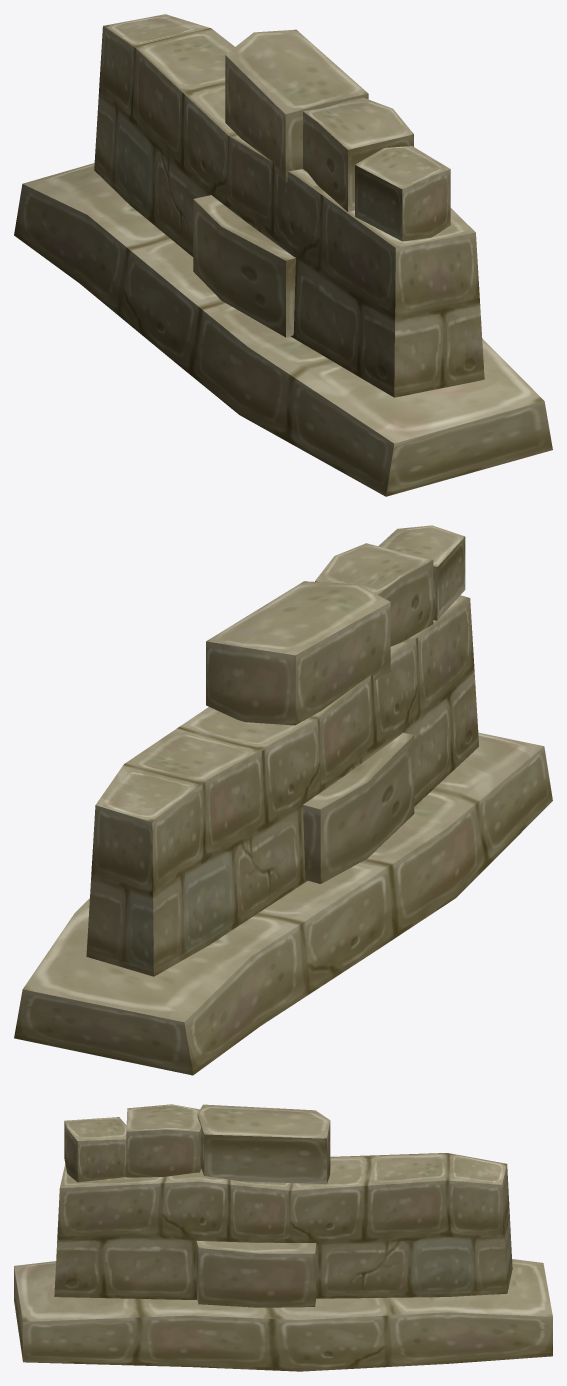
Rendered from wallStoneB.fbx.
3 renders of one model, top to bottom at view 1: azimuth 30°, elevation 25°; view 2: azimuth 150°, elevation 25°; view 3: azimuth 270°, elevation 25°, orthographic. The views are drawn at different scales.
Visible parts, largest first — view 1: wall_stoneB; view 2: wall_stoneB; view 3: wall_stoneB.
Part boxes in pixels (x1,y1,x2,y2): wall_stoneB: (14, 14, 552, 496); wall_stoneB: (14, 525, 552, 1075); wall_stoneB: (14, 1104, 552, 1371).
Size of the model in its own units: 147 by 179 by 415.
